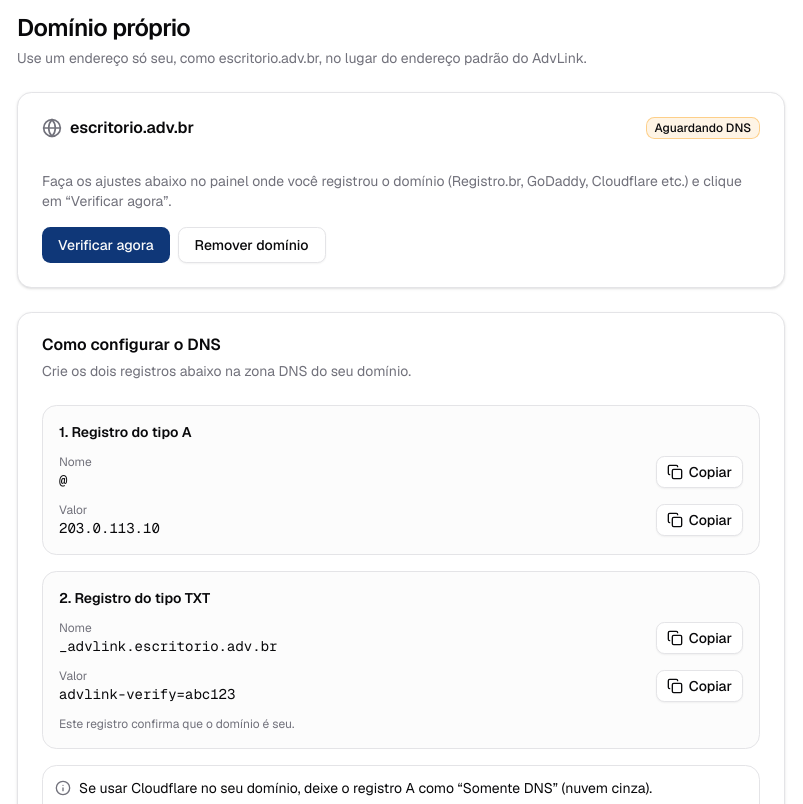
Test case: DominioClient › verifies and becomes active
The width and height of the screenshot is (803, 804).
Click the button "Verificar agora": click(106, 245) x1=42 y1=227 x2=170 y2=263
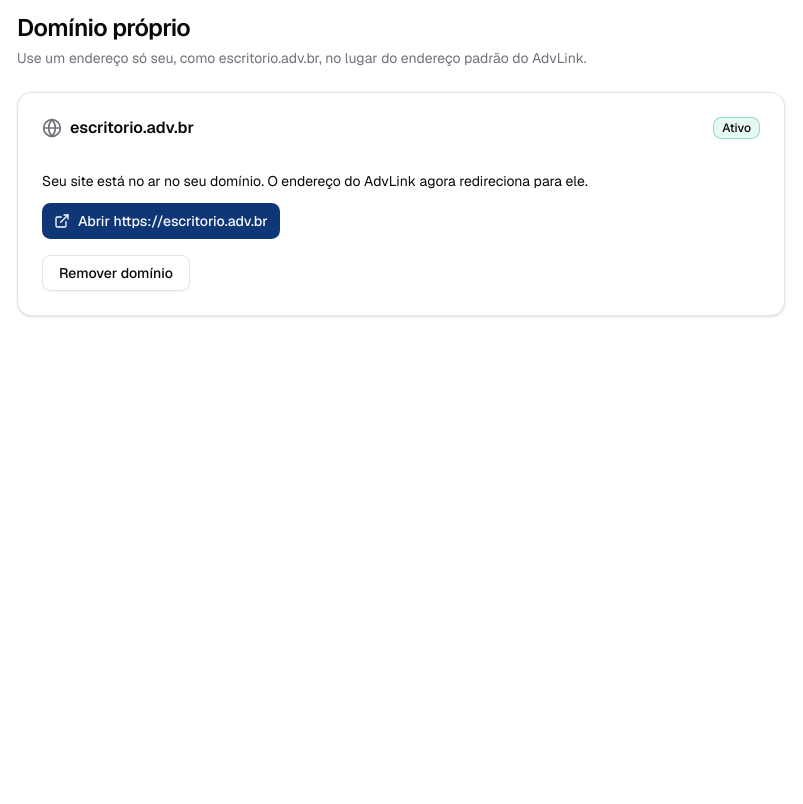
expect the text "Ativo" is shown: met, box x1=713 y1=117 x2=760 y2=139
expect the text "Como configurar o DNS" is gone: met
